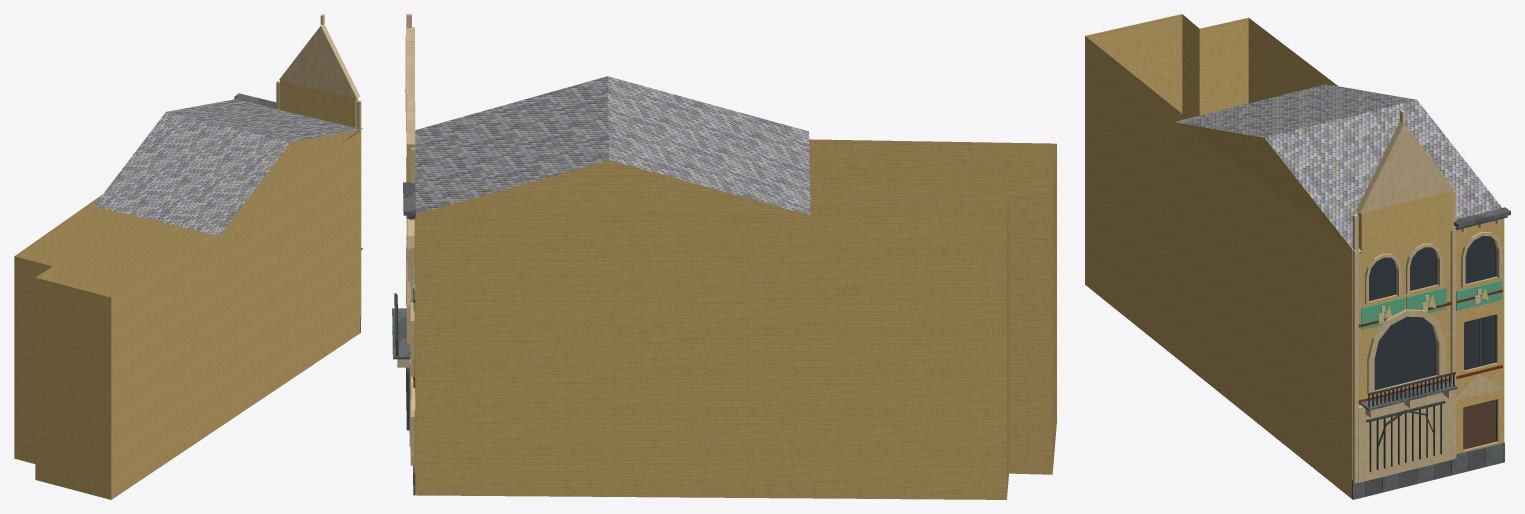
The picture shows the model from 3 angles, left to right: view 1: azimuth 30°, elevation 25°; view 2: azimuth 150°, elevation 25°; view 3: azimuth 270°, elevation 25°; orthographic projection. The views are drawn at different scales.
Visible parts, largest first — view 1: bldg_501637651_landmark; view 2: bldg_501637651_landmark; view 3: bldg_501637651_landmark.
Boxes of the visible parts, x1,y1,x2,y2 form: bldg_501637651_landmark: (14, 14, 362, 499); bldg_501637651_landmark: (392, 14, 1056, 499); bldg_501637651_landmark: (1085, 14, 1510, 499).
Bounding box in the file's own units: 22.93 × 16.7 × 17.06.
Materials: 12 (6 with a texture image).
